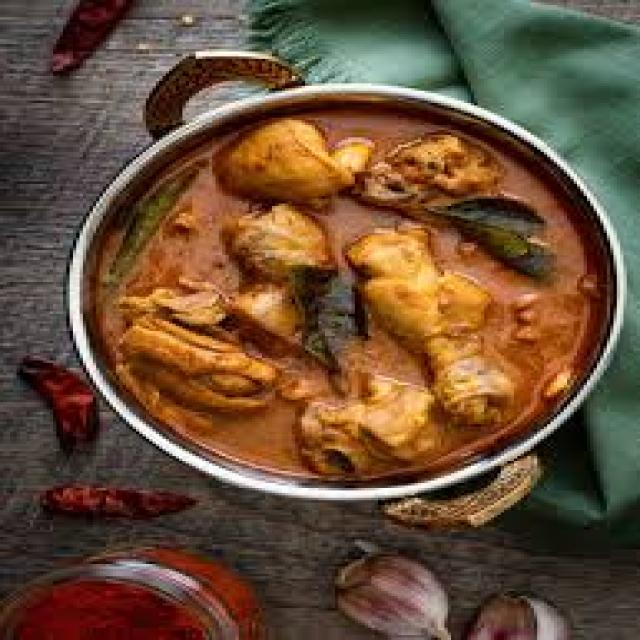Frango: (109, 110, 597, 483)
